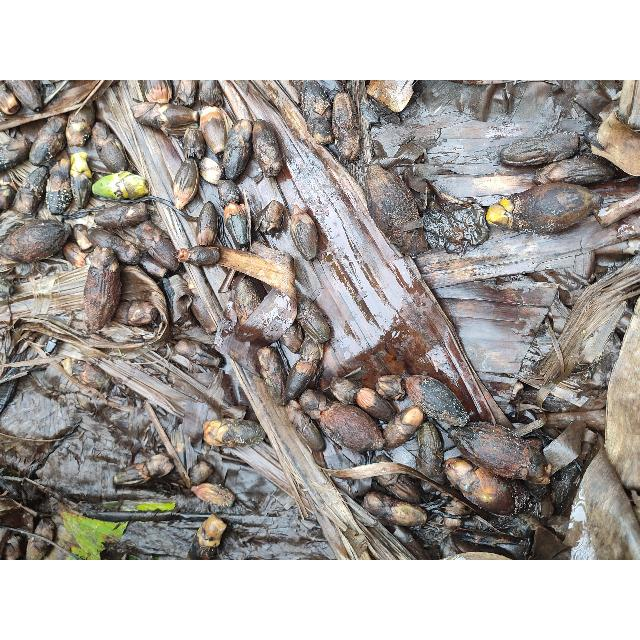damaged: (448, 421, 546, 485), (366, 164, 418, 258), (444, 457, 524, 518), (501, 80, 564, 130), (83, 248, 121, 328), (500, 130, 582, 167), (429, 173, 541, 199), (532, 154, 618, 186), (410, 376, 464, 426), (318, 402, 372, 452), (374, 452, 424, 503), (130, 102, 202, 136), (136, 221, 180, 271), (365, 492, 425, 528), (85, 227, 141, 265), (8, 167, 48, 216), (383, 403, 425, 449), (114, 454, 174, 486), (184, 275, 218, 331), (29, 116, 67, 166), (286, 400, 324, 450), (92, 122, 128, 174), (252, 118, 282, 180), (222, 118, 252, 180), (333, 92, 359, 162), (203, 419, 264, 448), (548, 462, 582, 514), (199, 105, 231, 158), (91, 170, 147, 200), (296, 293, 330, 341), (92, 202, 150, 230), (61, 358, 110, 390), (46, 159, 74, 215), (290, 204, 318, 260), (170, 339, 222, 369), (172, 158, 200, 210), (356, 386, 394, 422), (223, 199, 250, 249), (112, 299, 160, 327), (233, 277, 260, 325), (65, 105, 93, 148), (300, 80, 330, 118), (256, 199, 284, 237), (196, 200, 218, 248), (328, 377, 360, 405), (298, 332, 324, 366), (62, 240, 90, 268), (374, 375, 404, 401), (218, 177, 242, 209), (198, 157, 224, 186), (280, 321, 304, 352), (184, 128, 206, 160), (189, 460, 215, 486), (198, 80, 222, 108), (72, 224, 92, 252)
